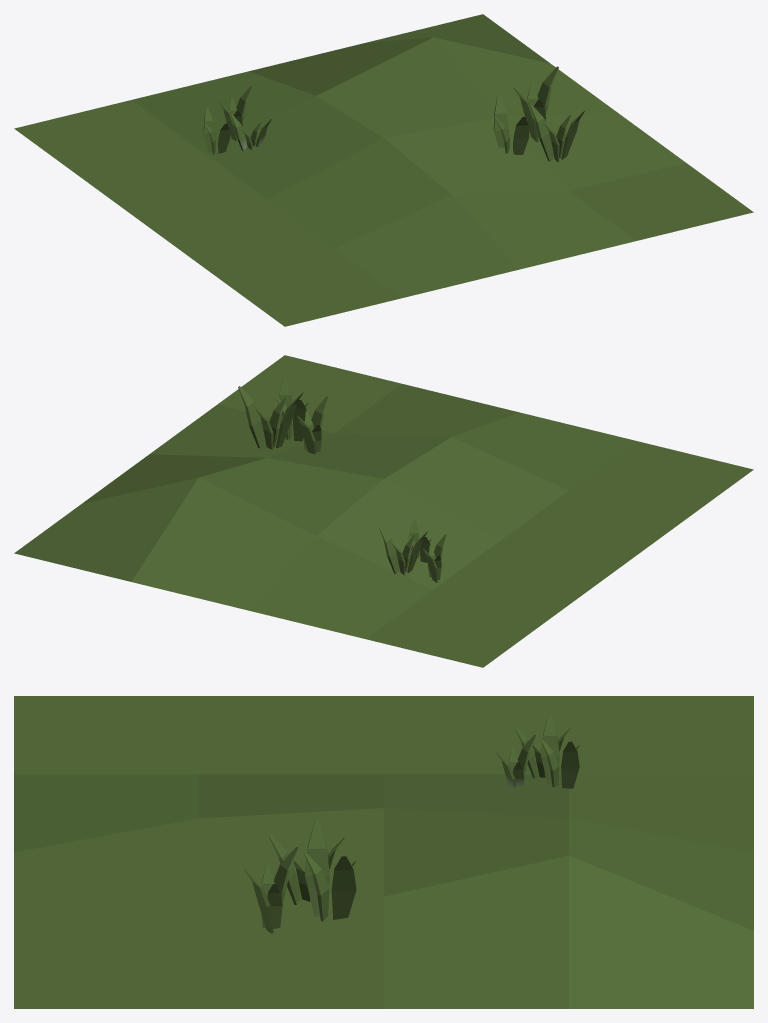
The model's file is tile_4.fbx.
The picture shows the model from 3 angles, top to bottom: view 1: azimuth 30°, elevation 25°; view 2: azimuth 150°, elevation 25°; view 3: azimuth 270°, elevation 25°; orthographic projection. The views are drawn at different scales.
Parts seen in each view (by area): view 1: Cube.503; view 2: Cube.503; view 3: Cube.503.
Part boxes in pixels (bbox=[...]): Cube.503: bbox=[14, 14, 753, 326]; Cube.503: bbox=[14, 355, 753, 667]; Cube.503: bbox=[14, 696, 753, 1008].
Bounding box in the file's own units: 400 × 62.98 × 400.
